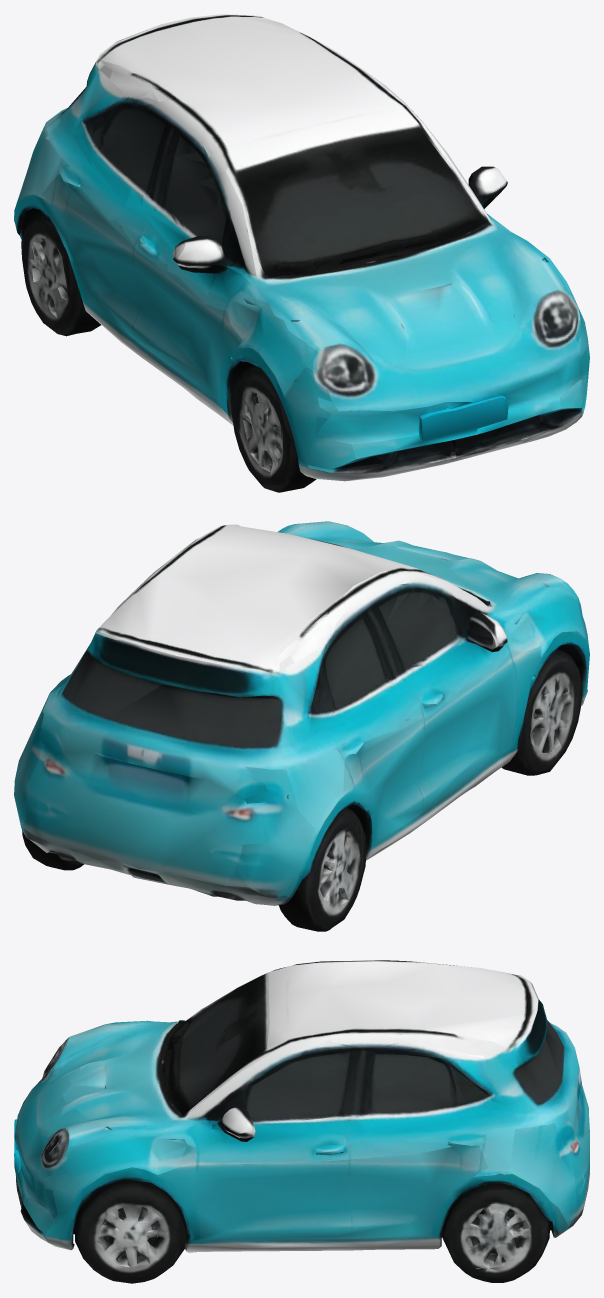
The picture shows the model from 3 angles, top to bottom: view 1: azimuth 30°, elevation 25°; view 2: azimuth 150°, elevation 25°; view 3: azimuth 270°, elevation 25°; orthographic projection. The views are drawn at different scales.
Visible parts, largest first — view 1: world; view 2: world; view 3: world.
Part boxes in pixels (x1,y1,x2,y2): world: [14, 14, 589, 492]; world: [14, 521, 589, 931]; world: [14, 960, 589, 1283].
Size of the model in its own units: 4.04 by 3.19 by 7.13.
1 material, 1 textured.
